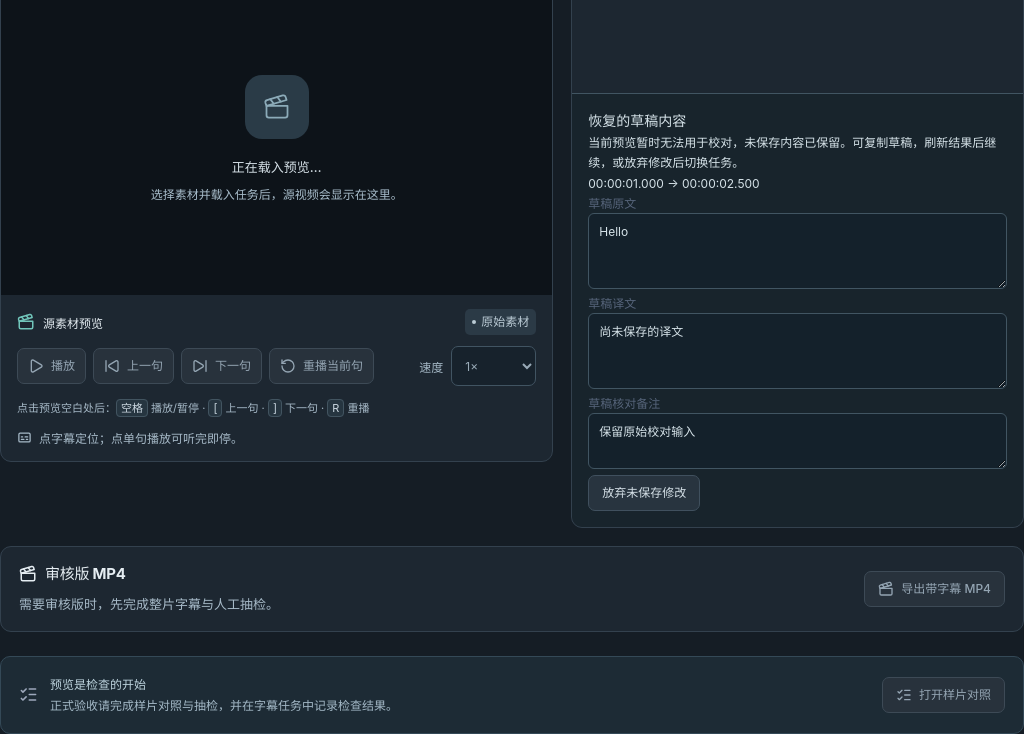
it: unavailable previews retain a usable manual-draft recovery choice › discards only this window's input while preserving another window's newer persisted draft
(page scrolled)
Check: the text box labelled "草稿译文" is shown, box [588,313,1007,389]
Click the button "放弃未保存修改": point(644, 493) [588,475,700,511]
(page scrolled)
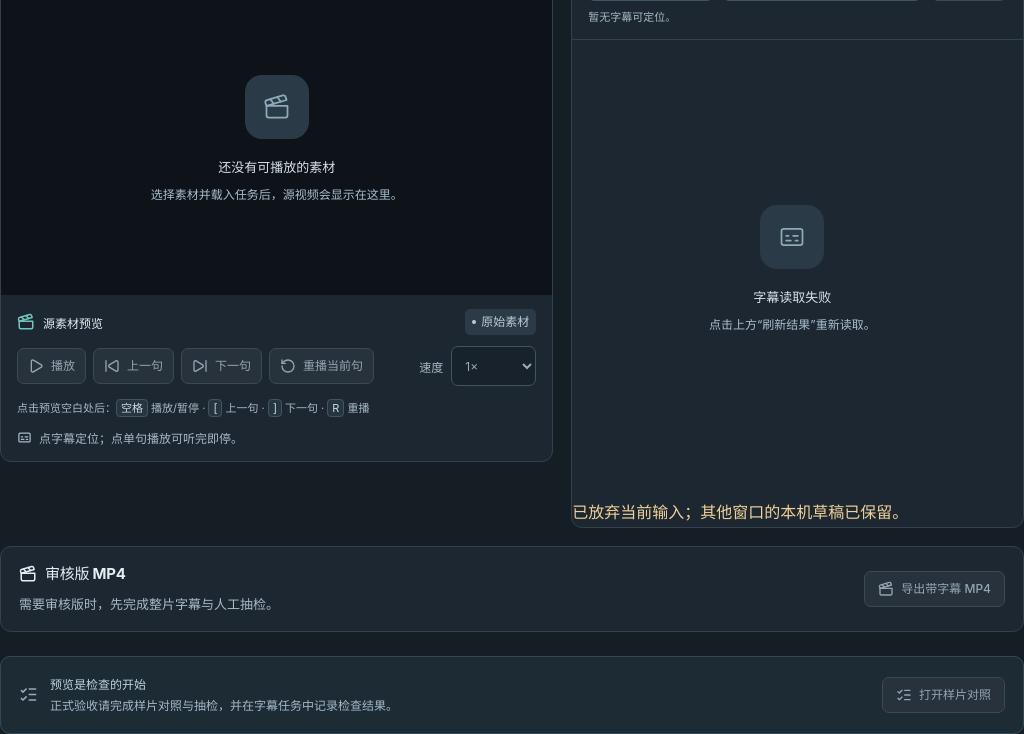
Check: the label labelled "草稿译文" is gone
Check: the text "已放弃当前输入；其他窗口的本机草稿已保留。" is shown, box [572,502,908,522]
